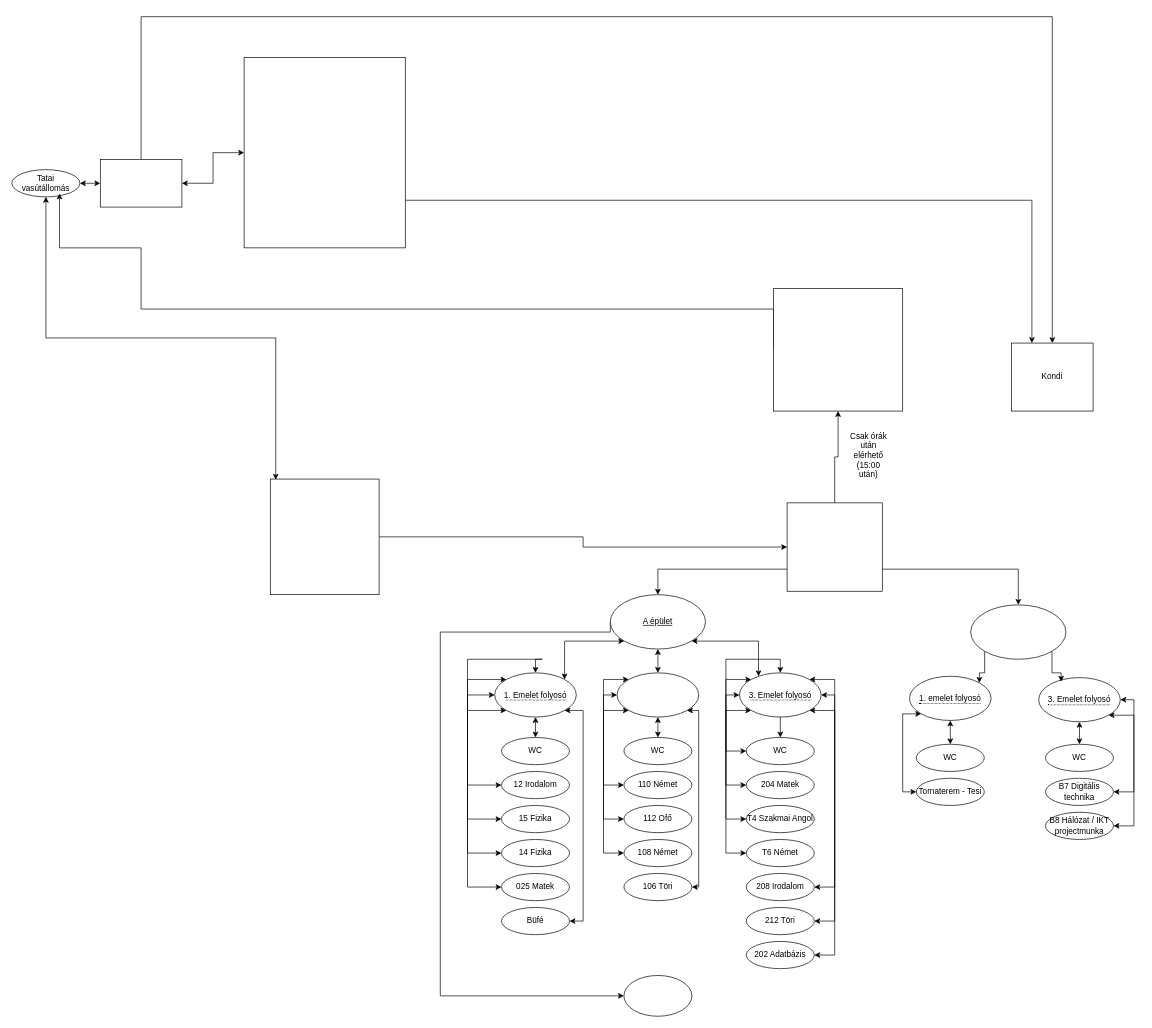
This 1152x1028 diagram has some shape labels left out. The centre of each missing label's shape, as x and y in pixels:
"2. Emelet folyosó" belongs at [657,694].
"B épület" belongs at [1018,631].
"Győri vasútállomás" belongs at [838,349].
"Győri vasútálomás" belongs at [324,536].
"Jedlik" belongs at [834,546].
"PLC terem" belongs at [657,995].
"Szomód" belongs at [324,152].
"Tata" belongs at [141,183].
